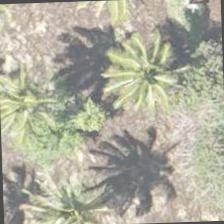Kelapa_Sawit: (98, 30, 190, 124), (0, 50, 64, 143), (36, 162, 130, 223)
